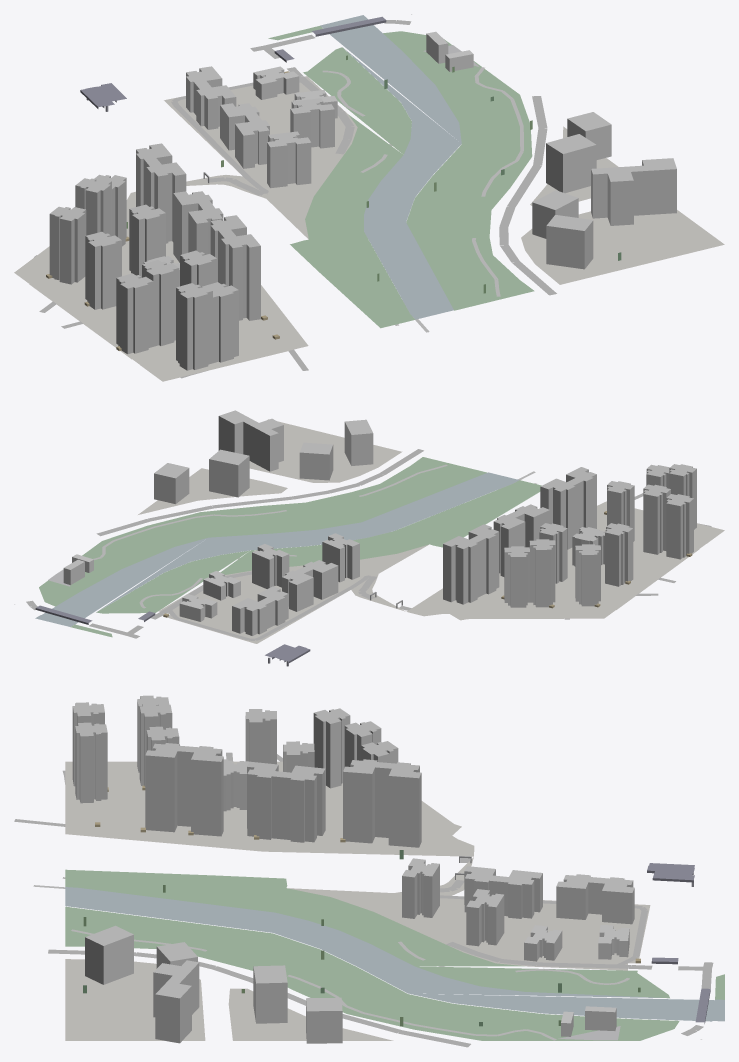
The picture shows the model from 3 angles, top to bottom: view 1: azimuth 30°, elevation 25°; view 2: azimuth 150°, elevation 25°; view 3: azimuth 270°, elevation 25°; orthographic projection. The views are drawn at different scales.
Bounding box in the file's own units: 531 × 62.91 × 539.
